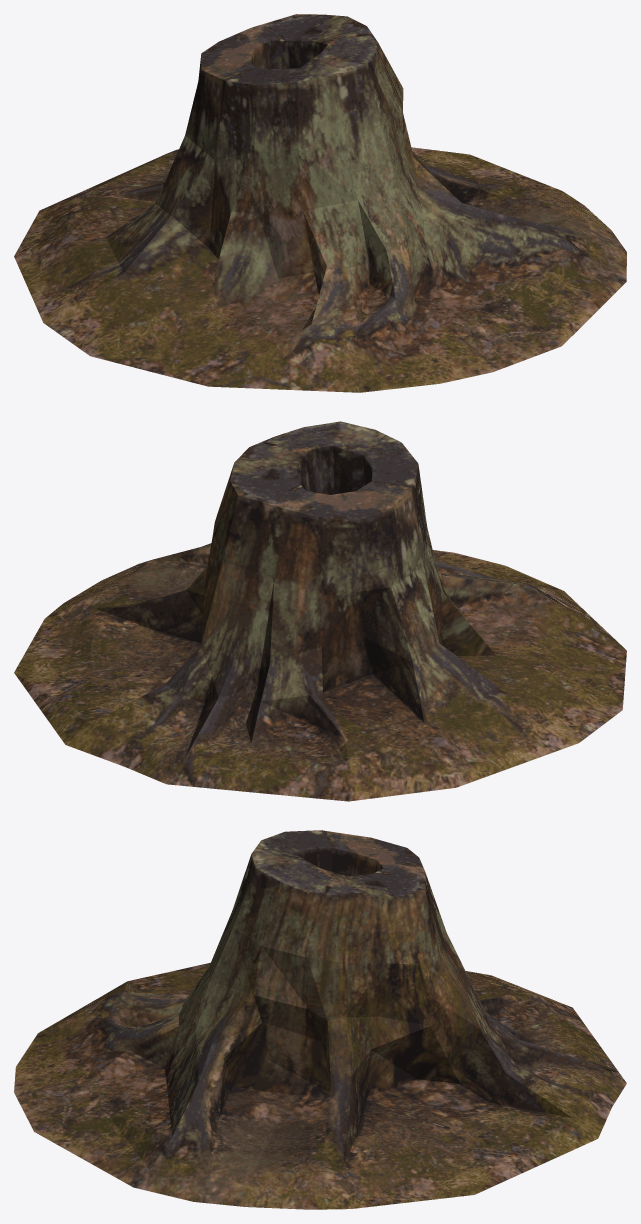
Rendered from SM_FOL_TreeStump_01_A.obj.
The picture shows the model from 3 angles, top to bottom: view 1: azimuth 30°, elevation 25°; view 2: azimuth 150°, elevation 25°; view 3: azimuth 270°, elevation 25°; orthographic projection.
Parts seen in each view (by area): view 1: SM_FOL_TreeStump_01_A; view 2: SM_FOL_TreeStump_01_A; view 3: SM_FOL_TreeStump_01_A.
Boxes of the visible parts, x1,y1,x2,y2 form: SM_FOL_TreeStump_01_A: (14, 14, 626, 392); SM_FOL_TreeStump_01_A: (14, 421, 626, 801); SM_FOL_TreeStump_01_A: (14, 830, 626, 1209).
Size of the model in its own units: 181 by 73.07 by 183.
